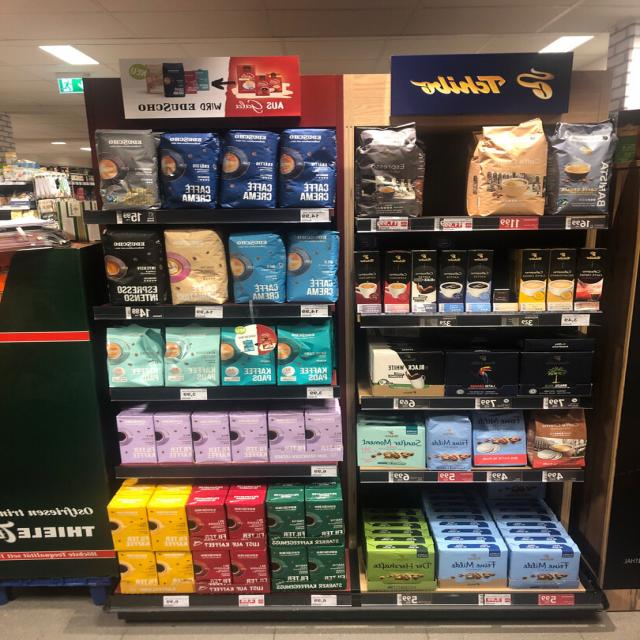BM Gemahlen: (518, 351, 594, 397)
BW Gemahlen: (371, 349, 449, 397)
Barista CC: (548, 120, 620, 216)
CC Mild: (468, 115, 554, 219)
CC Vollmundig: (528, 410, 590, 470)
Empty Shelf: (492, 248, 520, 312)
Espresso Aromatisch: (350, 120, 432, 220)
FM 36 Pads: (472, 410, 528, 468)
FM Bohne: (426, 414, 474, 470)
FM Gemahlen: (436, 548, 510, 590), (508, 548, 582, 590)
Herzhatfe Mundig: (365, 548, 437, 592)
LG Gemahlen: (445, 351, 519, 396)
SM Gemahlen: (356, 424, 426, 468)
Simo CC Colombia: (574, 248, 606, 312)
Simo CCMild bigpack: (517, 248, 547, 312)
Simo Decaff: (545, 249, 579, 312)
Simo Es Elegant: (383, 250, 411, 314)
Simo Es Kraft: (355, 250, 381, 315)
Simo Kaffee BW: (410, 250, 440, 314)
Simo Kaffee Kraft: (438, 248, 466, 314)
Simo Kaffee Mild: (464, 249, 494, 313)
